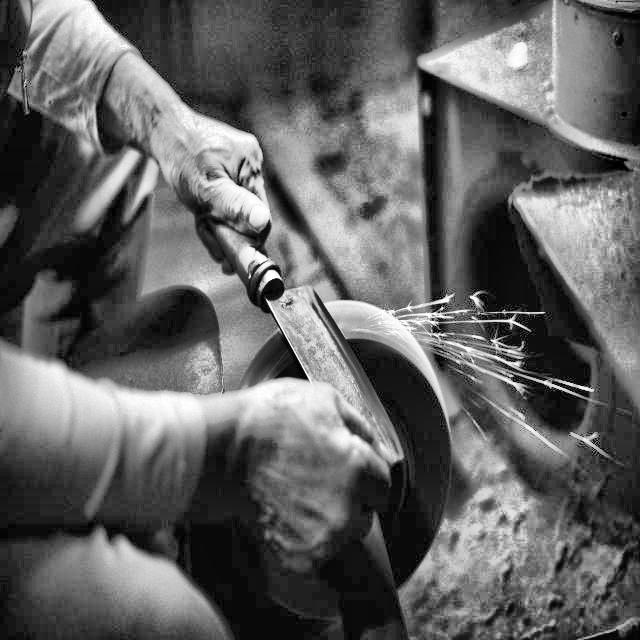knife: (188, 172, 408, 478)
